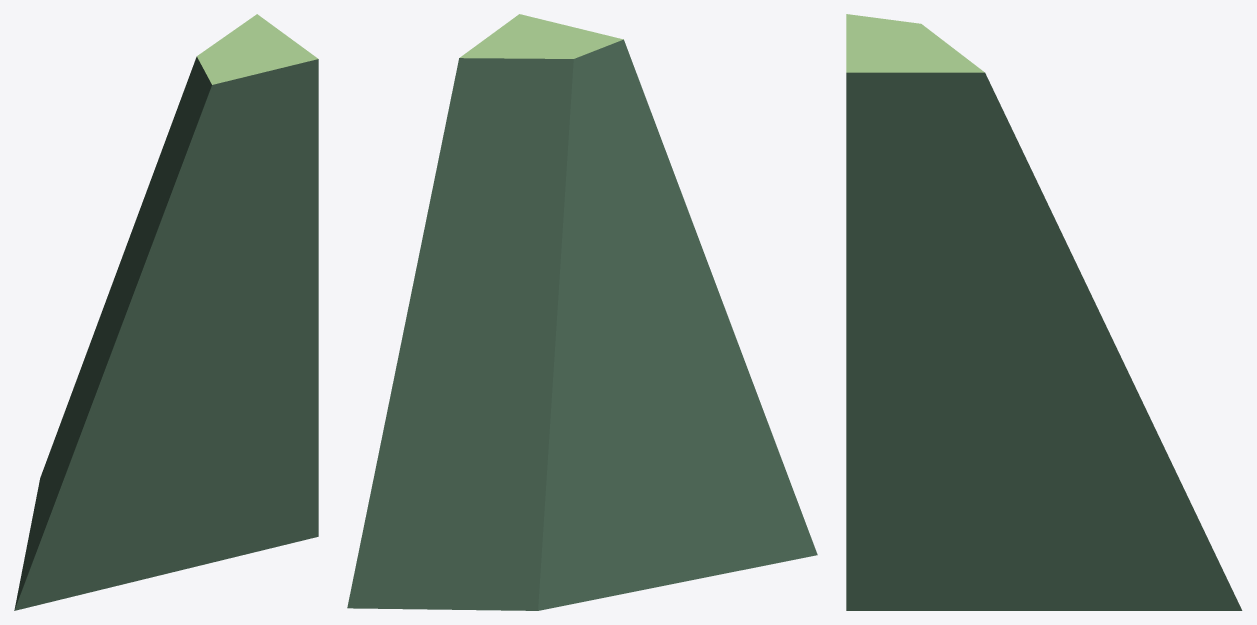
The model's file is GroundCorner.fbx.
3 renders of one model, left to right at view 1: azimuth 30°, elevation 25°; view 2: azimuth 150°, elevation 25°; view 3: azimuth 270°, elevation 25°, orthographic. The views are drawn at different scales.
Visible parts, largest first — view 1: Cube.012; view 2: Cube.012; view 3: Cube.012.
Part boxes in pixels (x1,y1,x2,y2): Cube.012: (14, 14, 318, 610); Cube.012: (347, 14, 817, 610); Cube.012: (846, 14, 1242, 610).
Bounding box in the file's own units: 100 × 150 × 100.
